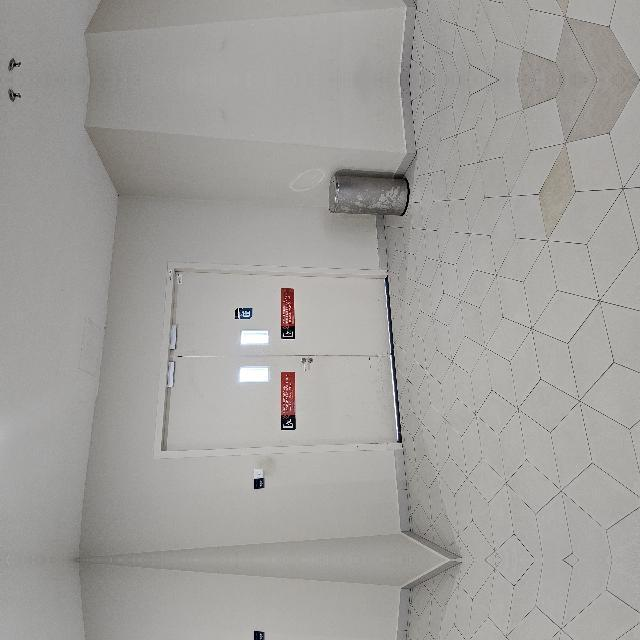door: (106, 237, 294, 481), (105, 639, 294, 640)
obstacle: (341, 406, 389, 490), (341, 629, 389, 640)
